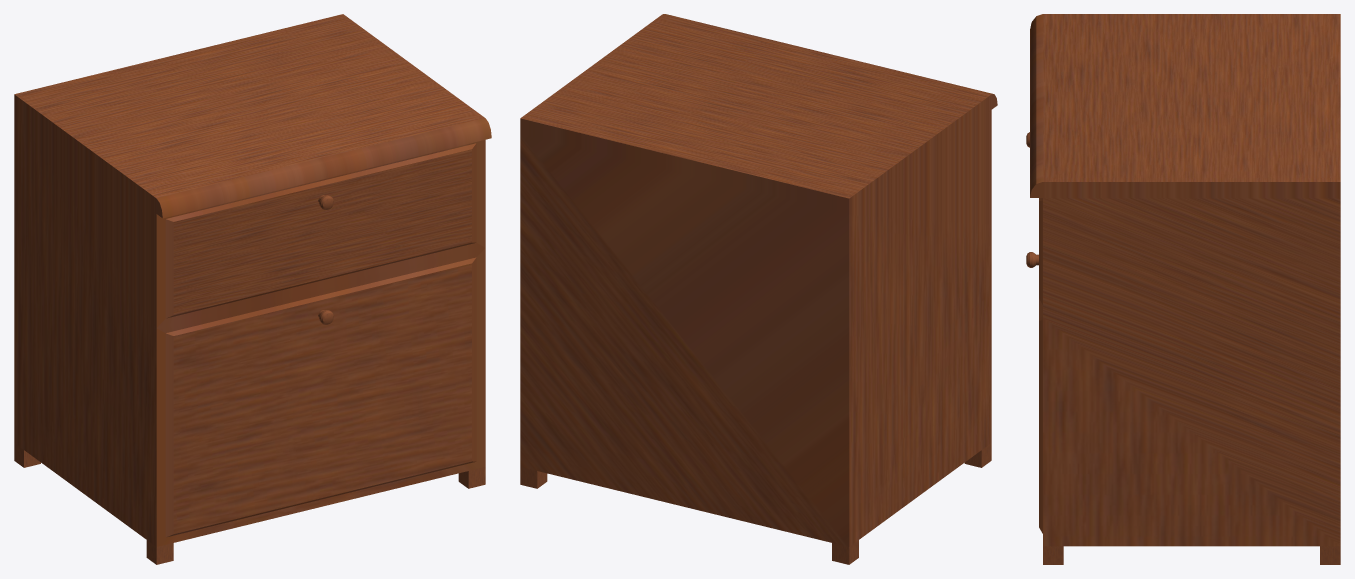
The model's file is K_chenschrank_Schubf_cher_0_84.fbx.
The picture shows the model from 3 angles, left to right: view 1: azimuth 30°, elevation 25°; view 2: azimuth 150°, elevation 25°; view 3: azimuth 270°, elevation 25°; orthographic projection. The views are drawn at different scales.
Parts seen in each view (by area): view 1: Küchenschrank Schubfächer 0,84; view 2: Küchenschrank Schubfächer 0,84; view 3: Küchenschrank Schubfächer 0,84.
Boxes of the visible parts, x1=… form: Küchenschrank Schubfächer 0,84: x1=14, y1=14, x2=491, y2=564; Küchenschrank Schubfächer 0,84: x1=520, y1=14, x2=997, y2=564; Küchenschrank Schubfächer 0,84: x1=1026, y1=14, x2=1340, y2=564.
Bounding box in the file's own units: 0.8412 × 0.8954 × 0.6655.
